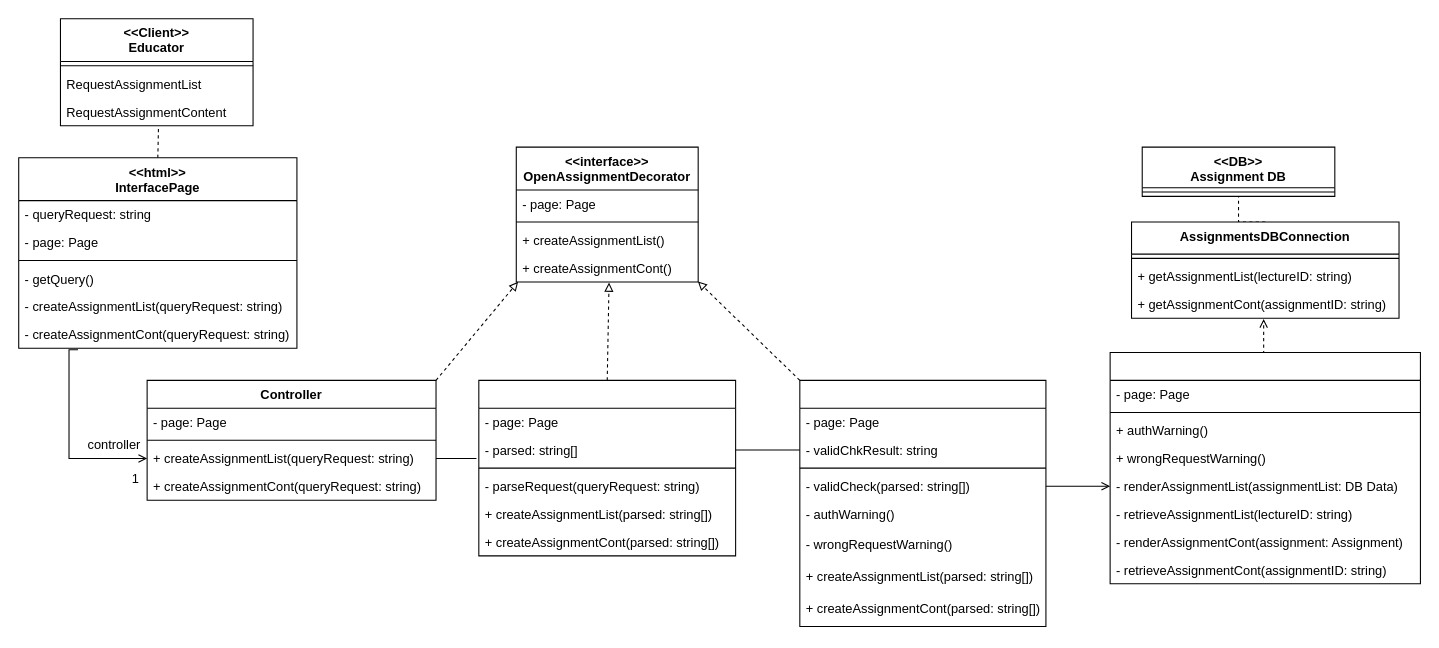
Image size: 1439x648. Some labels were removed from this diagram. Here are the shapes that lost their labels. From the top down, the box of each, then its label:
(478, 379, 736, 556): QueryParser
(1109, 351, 1420, 584): PageMaker
(799, 379, 1046, 626): ValidChecker
